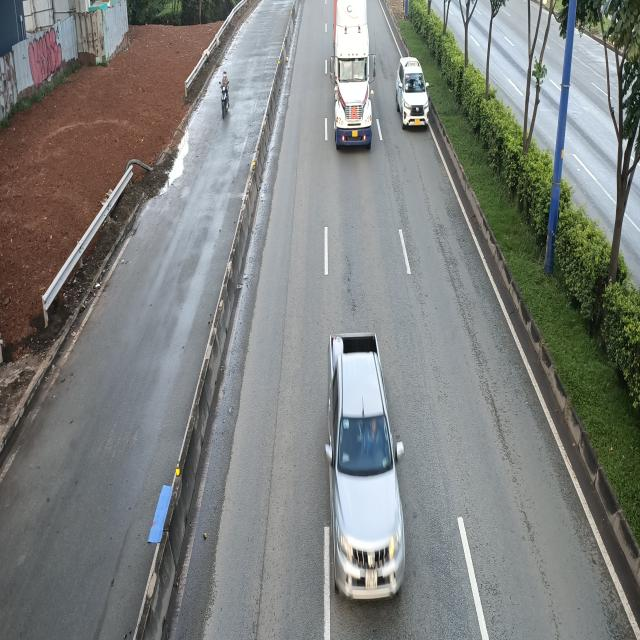car: (327, 330, 408, 608), (394, 57, 428, 131)
container: (332, 2, 378, 152)
